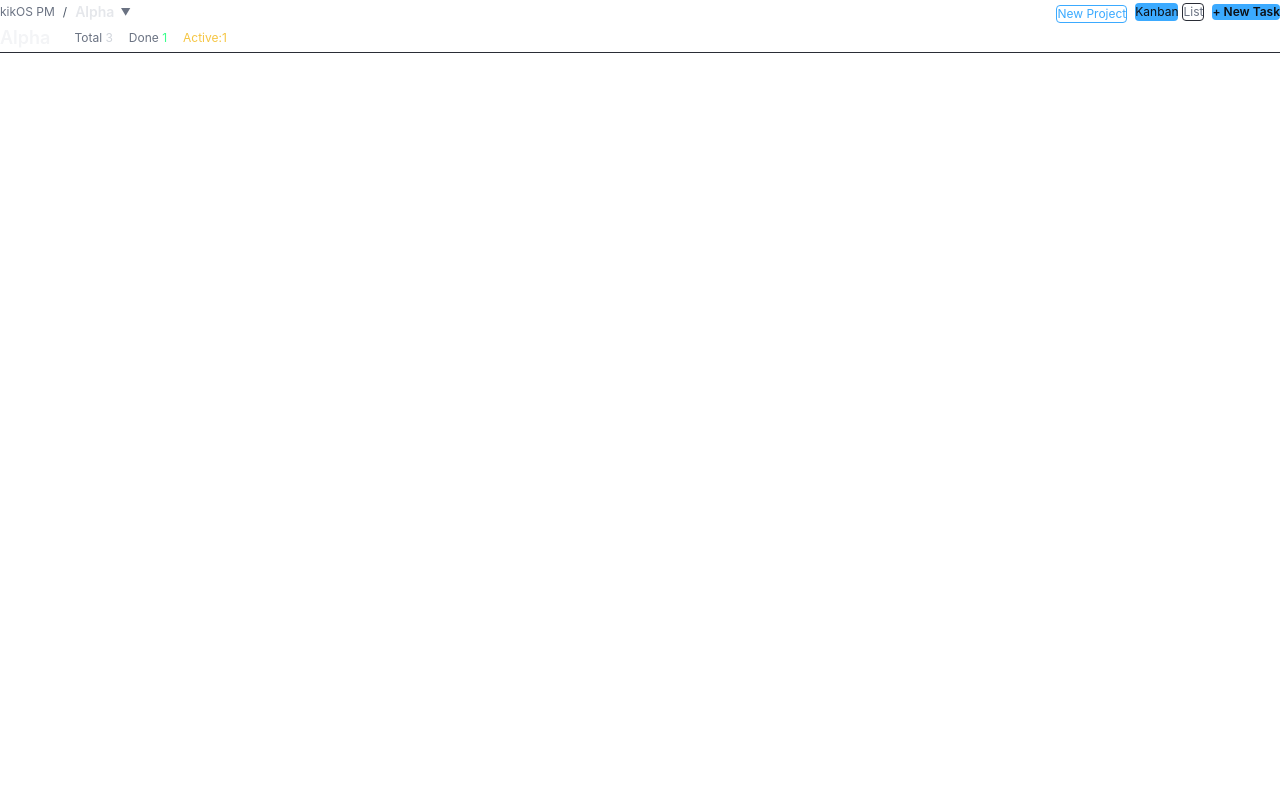
Test: StatsBar › Project switcher › opens project list on click
This screenshot has width=1280, height=800.
Click the button with test id "project-switcher" at (103, 12), box x1=75 y1=2 x2=131 y2=22
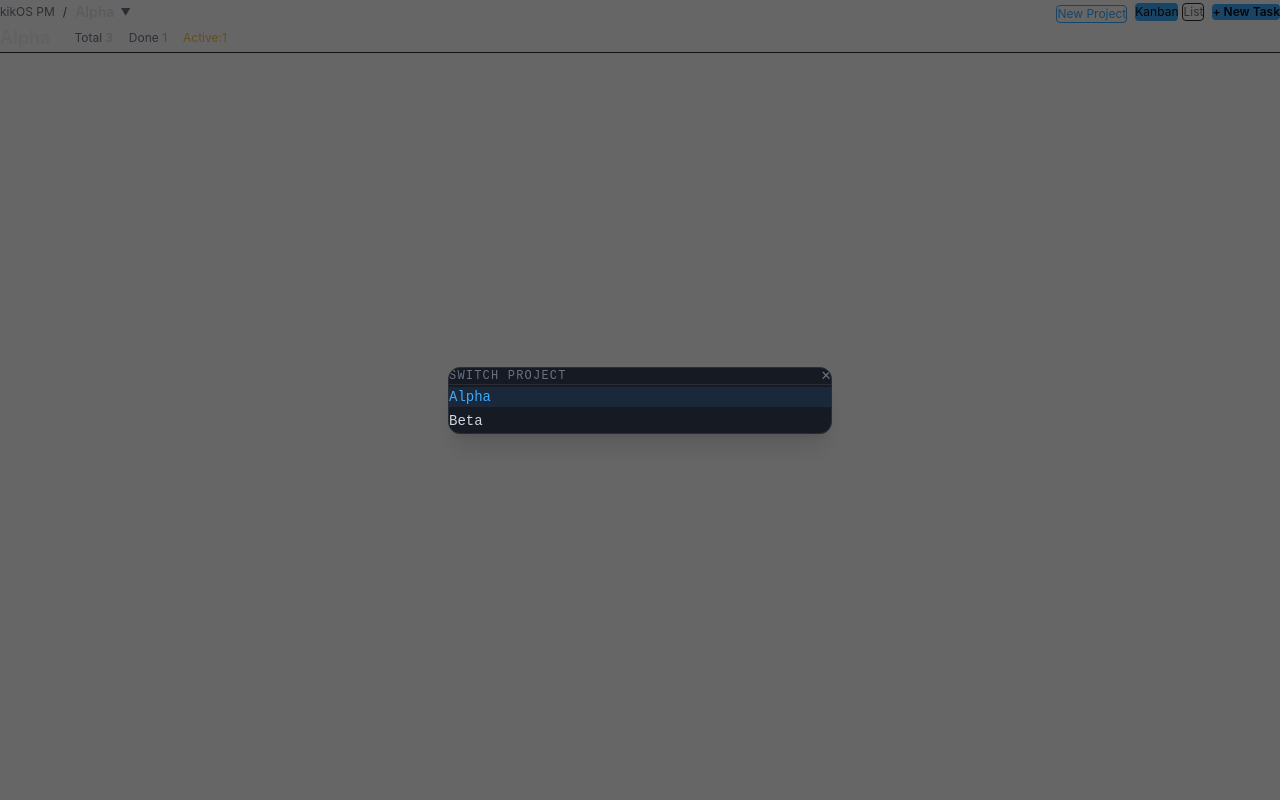
Now the button with test id "project-option-2" is shown, box x1=449 y1=410 x2=831 y2=430
